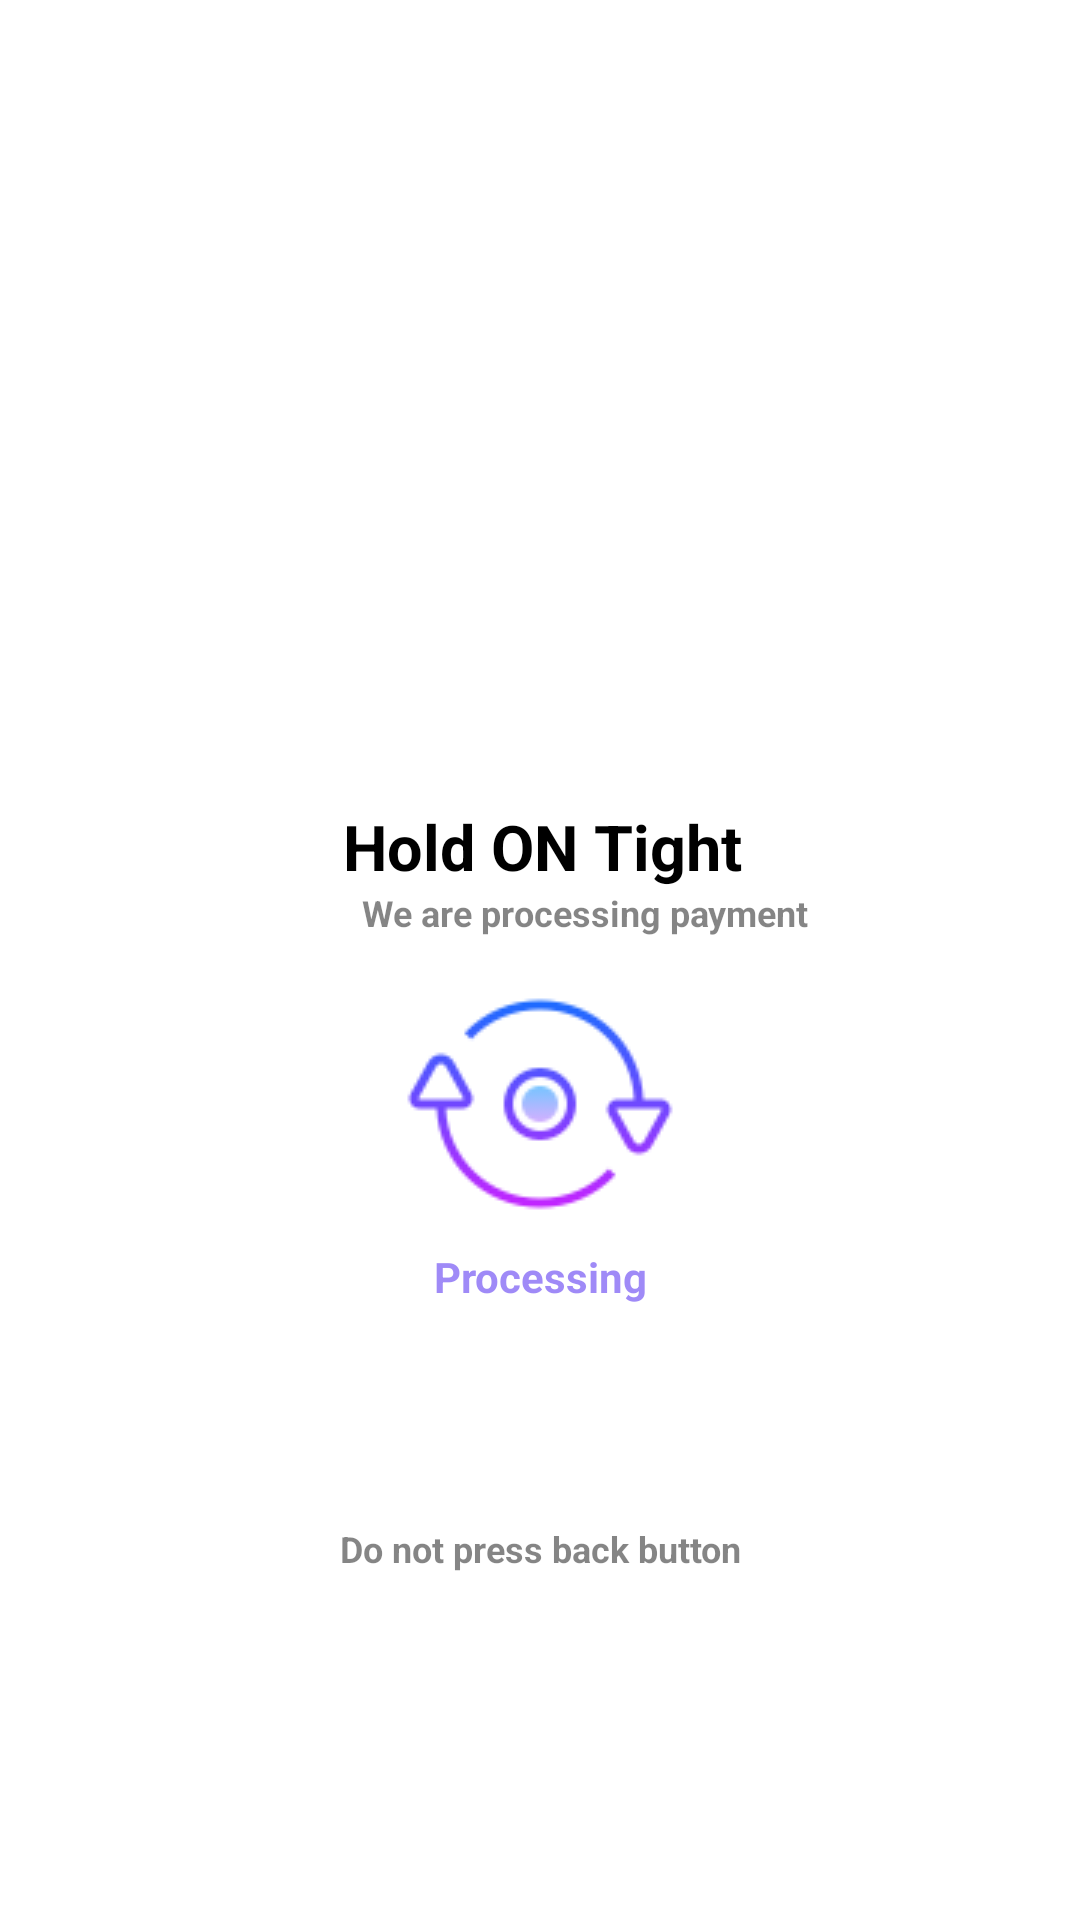

Named icons in this screenshot (1080 × 1920) and their centers, (x,y):
available updates: (540,1104)
